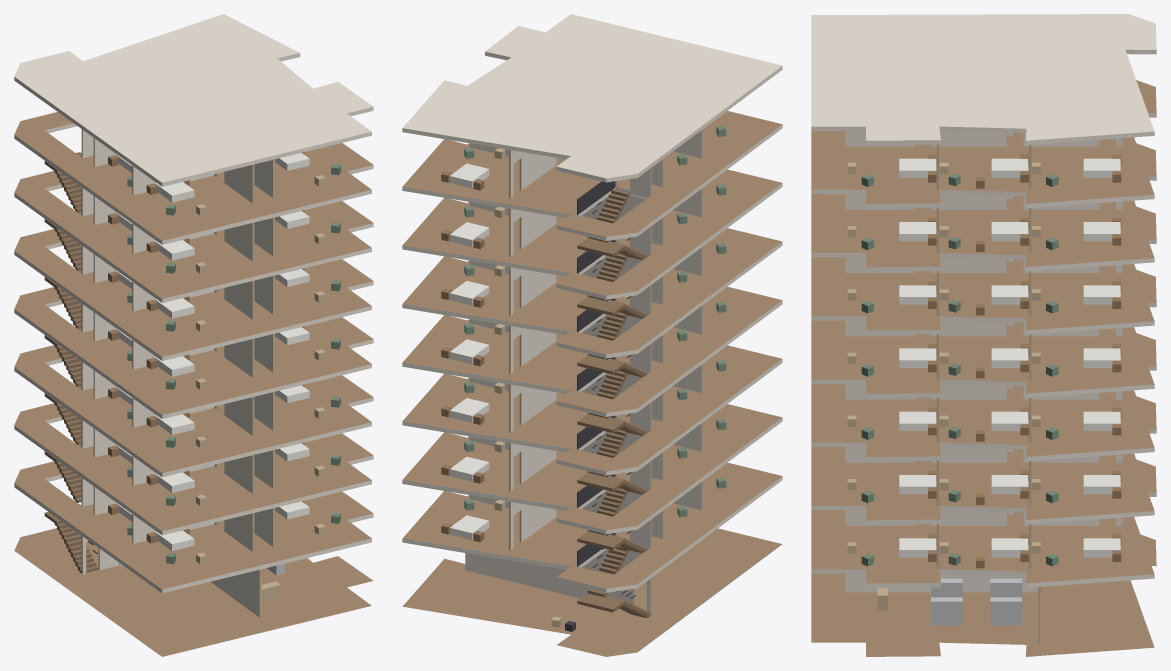
The model's file is interior.glb.
3 views of the same model, side by side, from view 1: azimuth 30°, elevation 25°; view 2: azimuth 150°, elevation 25°; view 3: azimuth 270°, elevation 25° (orthographic). The views are drawn at different scales.
Visible parts, largest first — view 1: slabs, partitions, stair, coarse-s4, coarse-s5, coarse-s6, coarse-s2, coarse-s7, coarse-s1, coarse-s3; view 2: slabs, partitions, stair, coarse-s6, coarse-s7, coarse-s1, coarse-s2, coarse-s3, coarse-s4, coarse-s5; view 3: slabs, partitions, coarse-s1, coarse-s4, coarse-s2, coarse-s6, coarse-s7, coarse-s3, coarse-s5, coarse-s0.
Part boxes in pixels (left/top/right/bottom): slabs: left=14, top=14, right=373, bottom=656; partitions: left=81, top=129, right=274, bottom=617; stair: left=44, top=152, right=98, bottom=573; coarse-s4: left=108, top=326, right=340, bottom=389; coarse-s5: left=108, top=268, right=340, bottom=331; coarse-s6: left=108, top=210, right=340, bottom=273; coarse-s2: left=108, top=442, right=340, bottom=505; coarse-s7: left=108, top=152, right=340, bottom=215; coarse-s1: left=108, top=500, right=340, bottom=563; coarse-s3: left=108, top=384, right=340, bottom=447; slabs: left=402, top=14, right=782, bottom=656; partitions: left=465, top=129, right=702, bottom=615; stair: left=577, top=181, right=651, bottom=618; coarse-s6: left=441, top=184, right=726, bottom=249; coarse-s7: left=441, top=126, right=726, bottom=190; coarse-s1: left=441, top=477, right=726, bottom=542; coarse-s2: left=441, top=419, right=726, bottom=483; coarse-s3: left=441, top=360, right=726, bottom=424; coarse-s4: left=441, top=301, right=726, bottom=366; coarse-s5: left=441, top=243, right=726, bottom=307; slabs: left=811, top=14, right=1156, bottom=656; partitions: left=845, top=131, right=1122, bottom=642; coarse-s1: left=847, top=533, right=1121, bottom=568; coarse-s4: left=847, top=344, right=1121, bottom=378; coarse-s2: left=847, top=470, right=1121, bottom=504; coarse-s6: left=847, top=217, right=1121, bottom=251; coarse-s7: left=847, top=154, right=1121, bottom=188; coarse-s3: left=847, top=407, right=1121, bottom=441; coarse-s5: left=847, top=281, right=1121, bottom=315; coarse-s0: left=877, top=578, right=1021, bottom=625.
Size of the model in its own units: 16.21 by 30.79 by 18.65.
